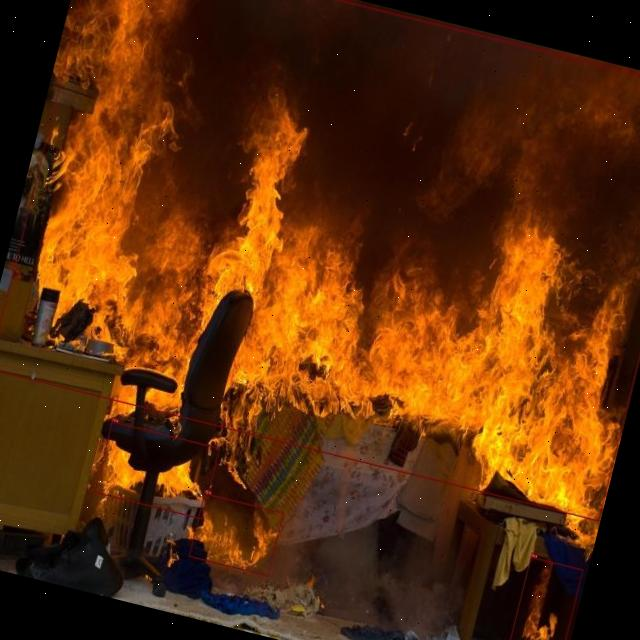fire: (0, 0, 640, 521), (94, 420, 220, 520), (188, 492, 284, 576), (497, 556, 582, 640)
